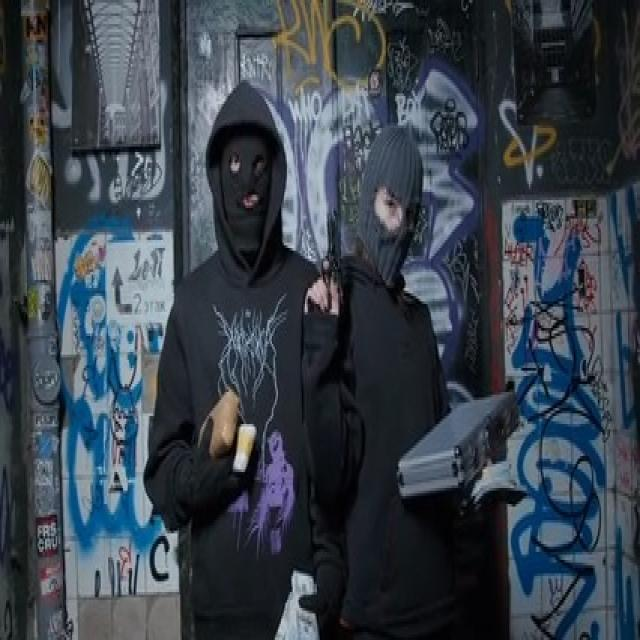Gun_Holder: (297, 196, 353, 334)
Person: (142, 83, 326, 640), (322, 94, 493, 640)
